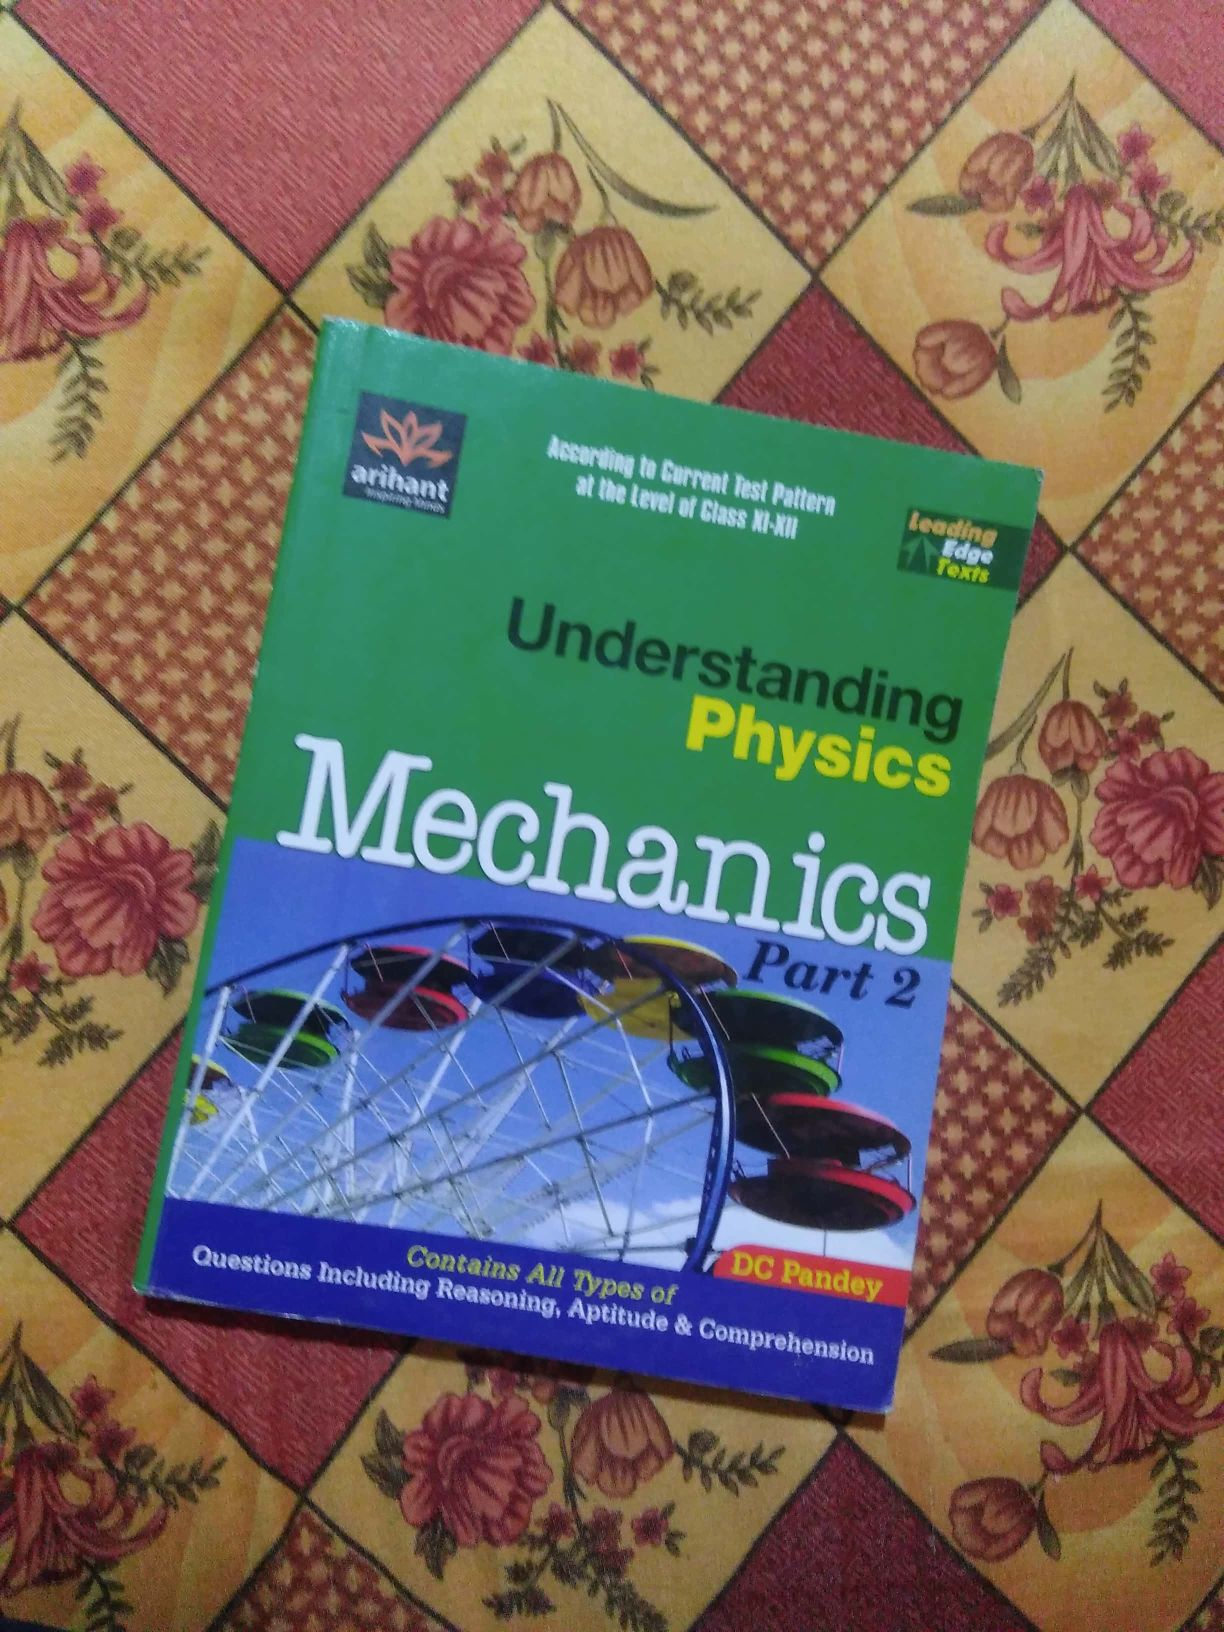mechanics: (127, 305, 1032, 1402)
